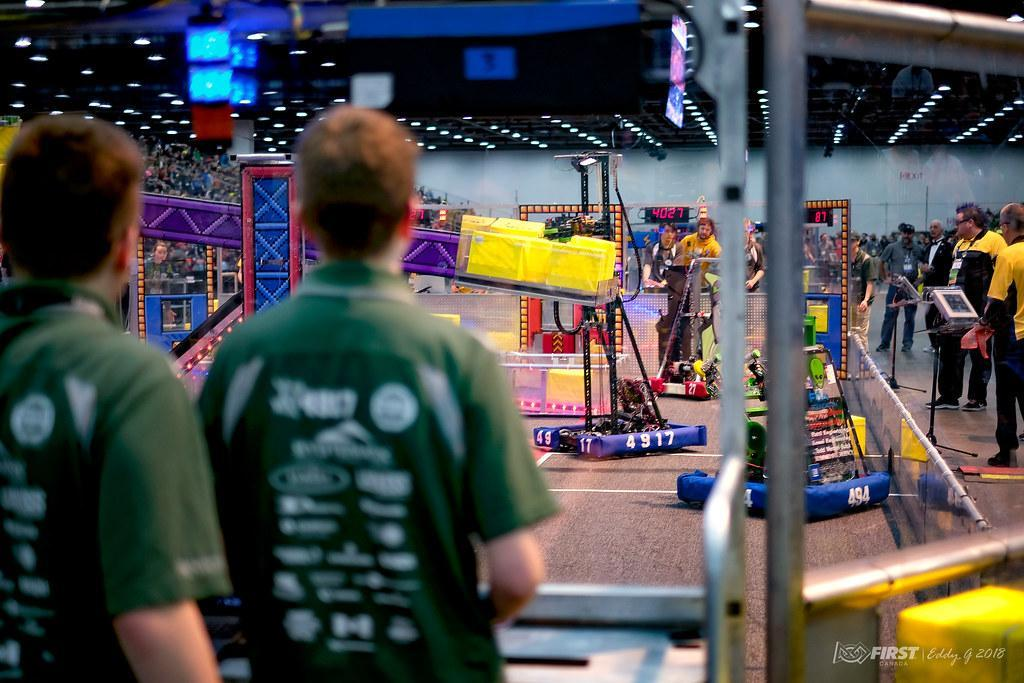robot: (433, 133, 713, 469), (662, 264, 909, 537), (640, 239, 759, 400)
